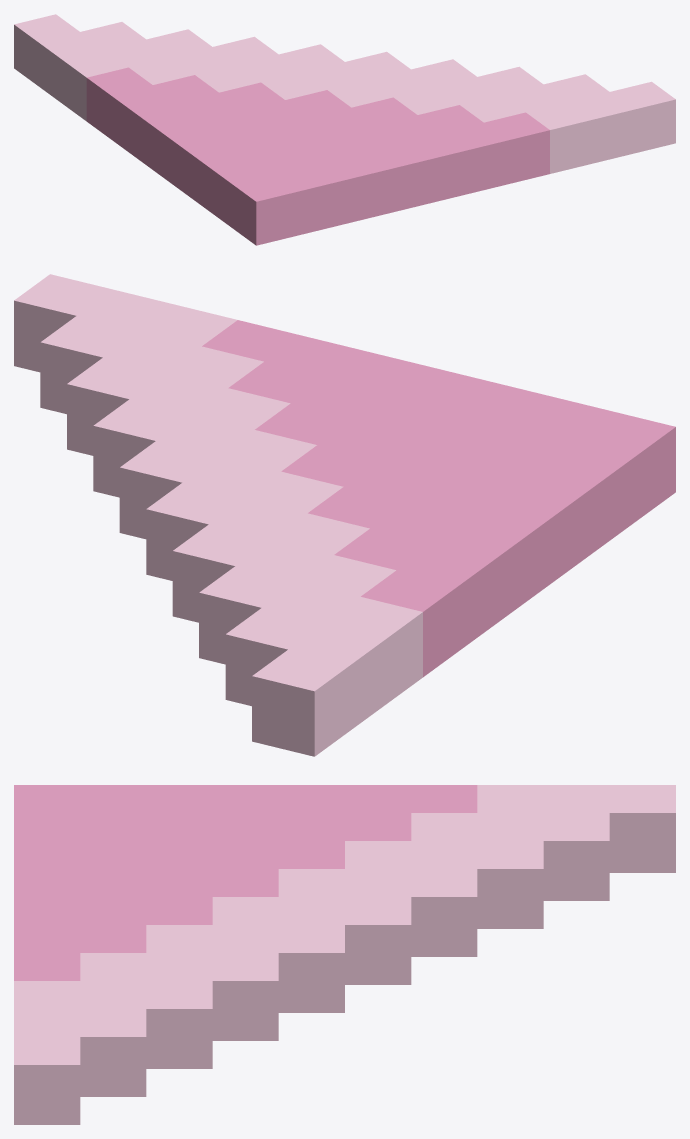
File: grass_lined_cornor_big.obj
The picture shows the model from 3 angles, top to bottom: view 1: azimuth 30°, elevation 25°; view 2: azimuth 150°, elevation 25°; view 3: azimuth 270°, elevation 25°; orthographic projection. The views are drawn at different scales.
Size of the model in its own units: 1 by 0.1 by 1.
